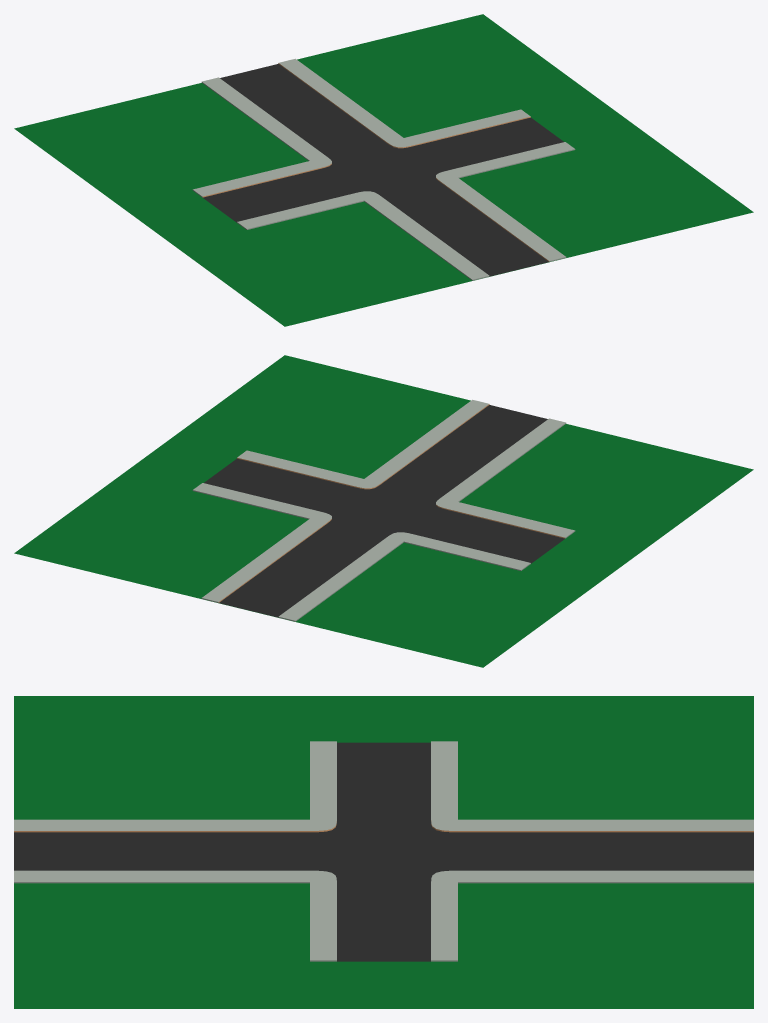
3 renders of one model, top to bottom at view 1: azimuth 30°, elevation 25°; view 2: azimuth 150°, elevation 25°; view 3: azimuth 270°, elevation 25°, orthographic. The views are drawn at different scales.
Parts seen in each view (by area): view 1: Plane; view 2: Plane; view 3: Plane.
Part boxes in pixels (x1,y1,x2,y2): Plane: (14,14,753,326); Plane: (14,355,753,667); Plane: (14,696,753,1008).
Bounding box in the file's own units: 10000 × 25 × 10000.
